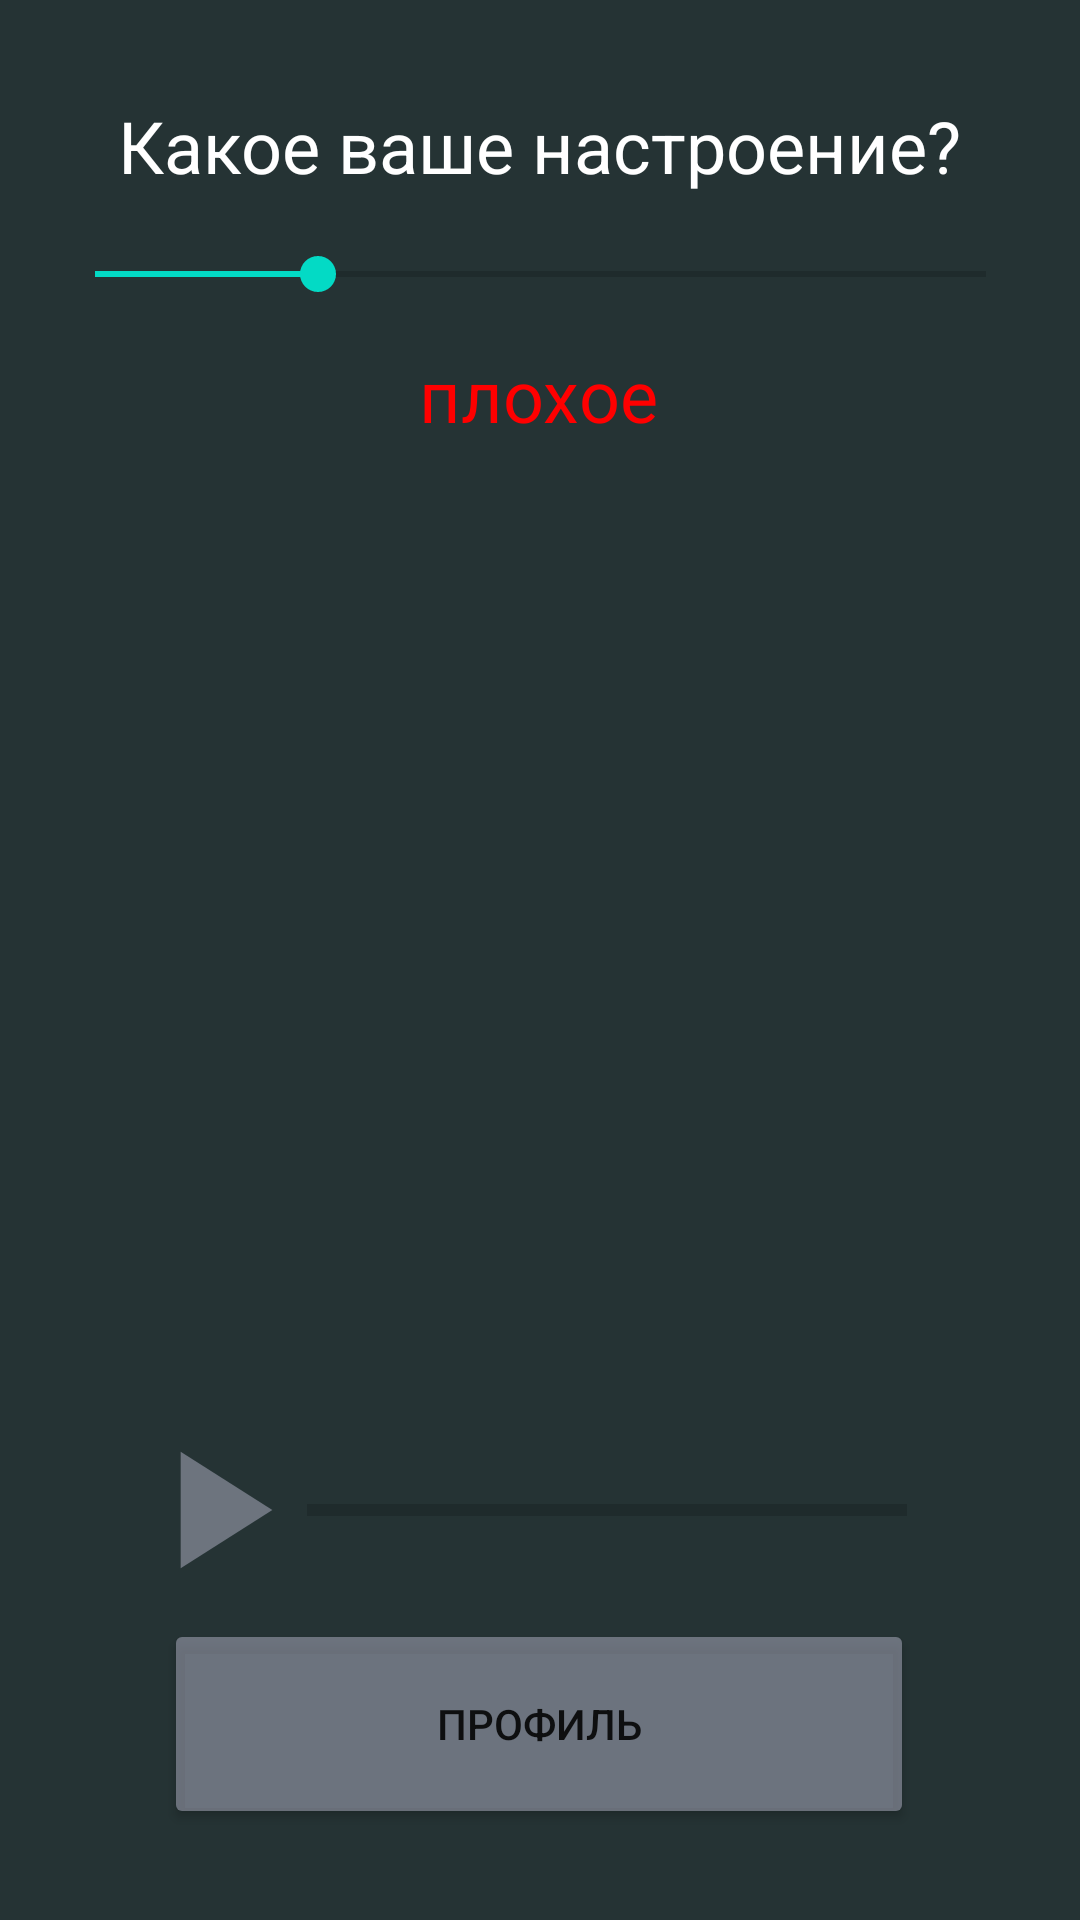

Icon bounding boxes for this 1080px×1920px phone screenshot, format region(x1, y1, x2, y2):
play arrow: region(181, 1452, 272, 1568)
